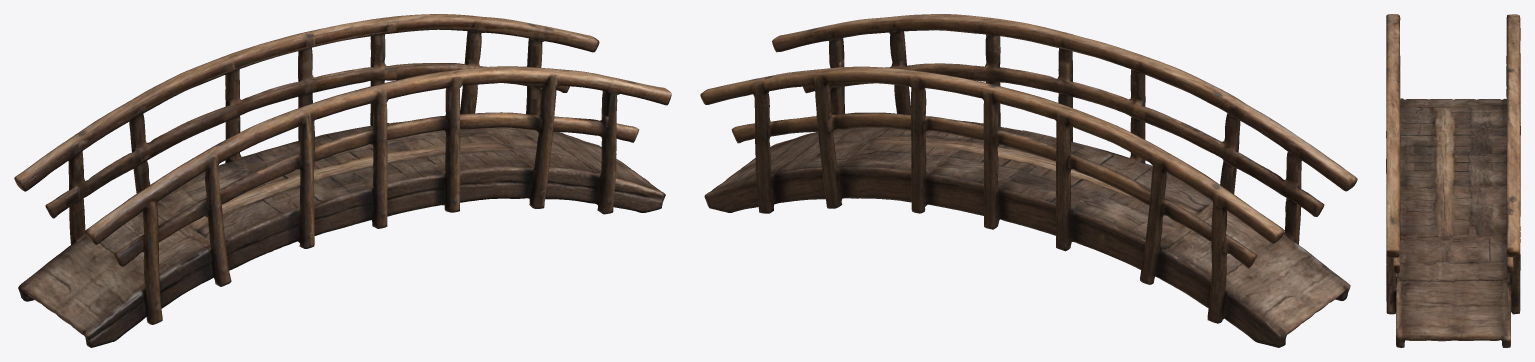
Rendered from Bridge1.fbx.
3 renders of one model, left to right at view 1: azimuth 30°, elevation 25°; view 2: azimuth 150°, elevation 25°; view 3: azimuth 270°, elevation 25°, orthographic. The views are drawn at different scales.
Visible parts, largest first — view 1: Mesh_0; view 2: Mesh_0; view 3: Mesh_0.
Boxes of the visible parts, left/top/right/bottom form: Mesh_0: left=14, top=14, right=671, bottom=347; Mesh_0: left=700, top=14, right=1357, bottom=347; Mesh_0: left=1386, top=14, right=1520, bottom=347.
Bounding box in the file's own units: 200 × 63.64 × 48.12.
1 material, 1 textured.
